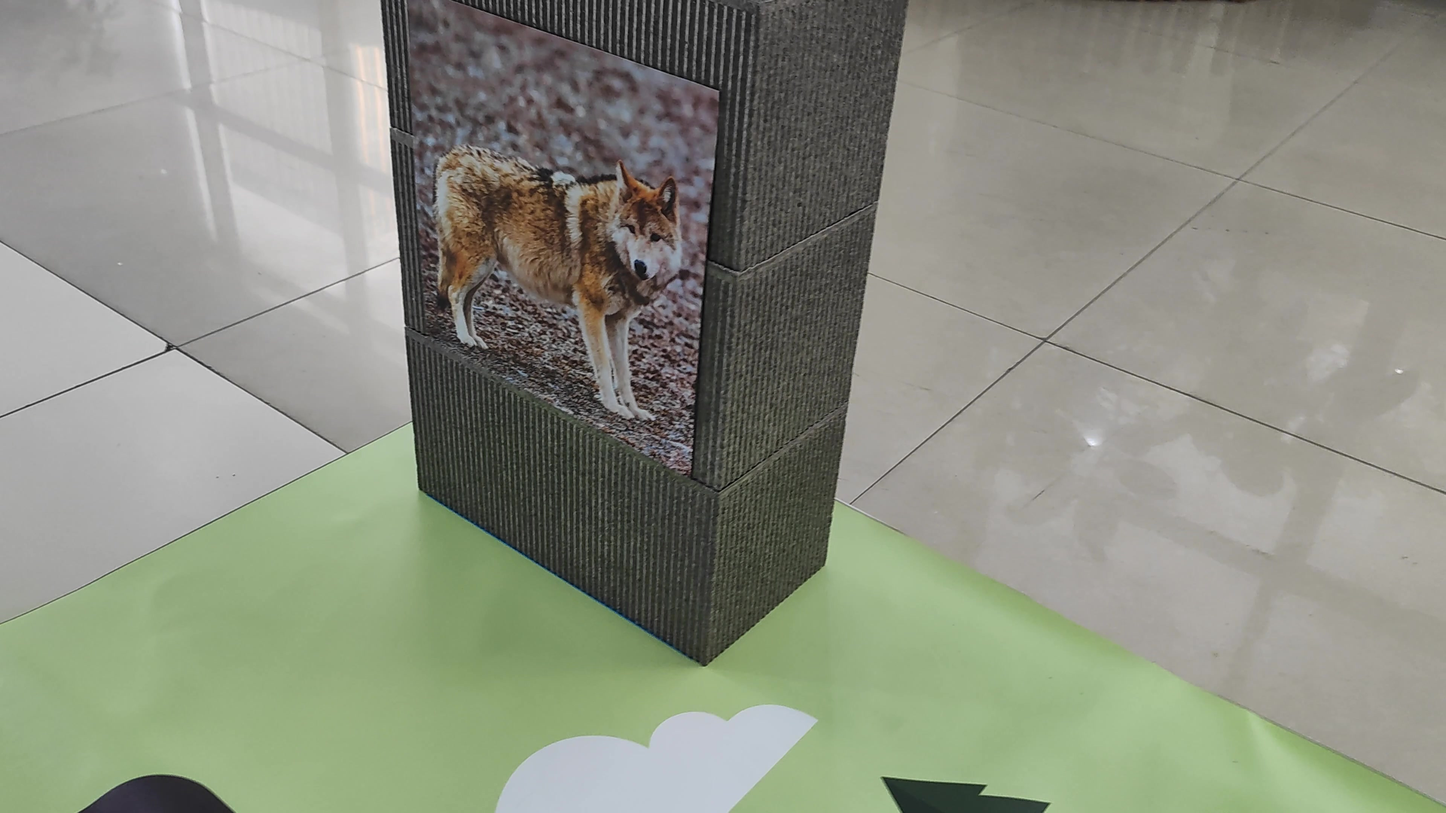wolf: (418, 127, 708, 437)
